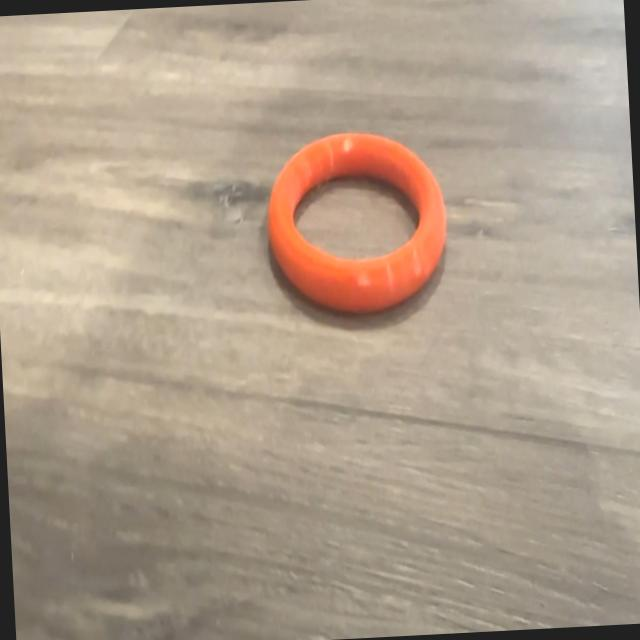note: (264, 126, 451, 320)
